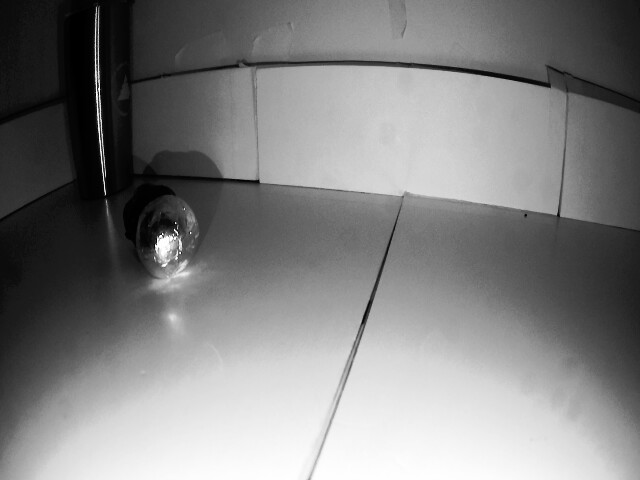black: (133, 201, 207, 274)
silver: (122, 182, 169, 228)
